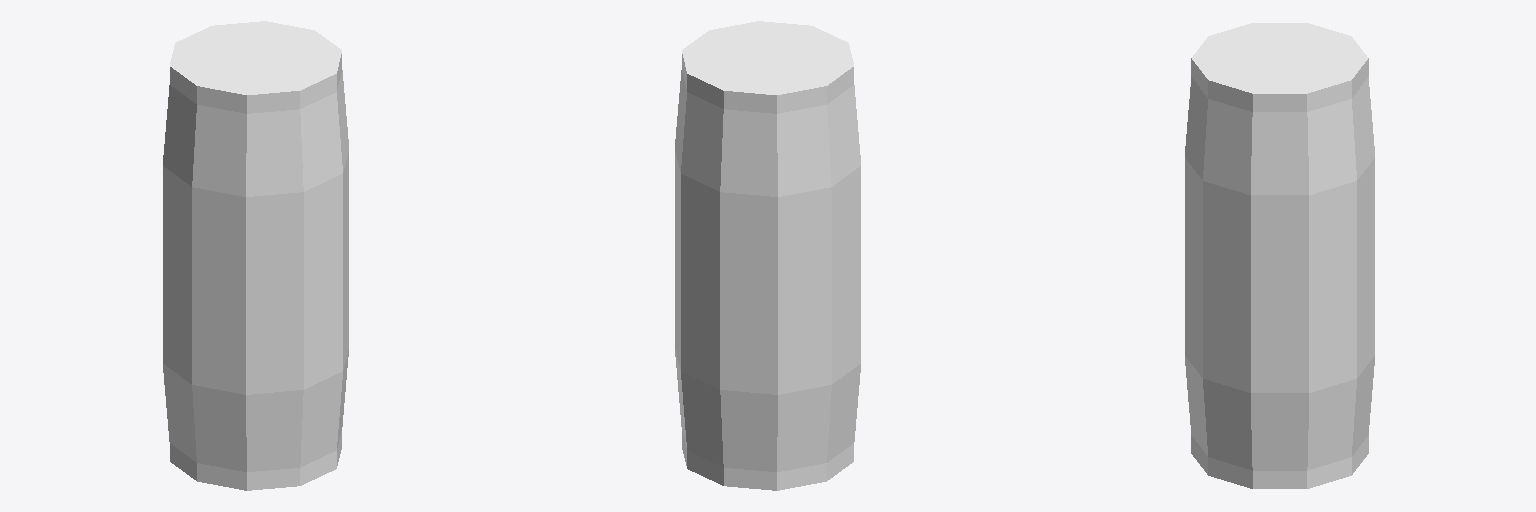
The model's file is tall_barrel_inventory.obj.
The picture shows the model from 3 angles: view 1: azimuth 30°, elevation 25°; view 2: azimuth 150°, elevation 25°; view 3: azimuth 270°, elevation 25°; orthographic projection.
Parts seen in each view (by area): view 1: upper_side, lower_side, top, bottom; view 2: upper_side, lower_side, top, bottom; view 3: upper_side, lower_side, top, bottom.
Part boxes in pixels (x1,y1,x2,y2): upper_side: (163,70,348,295); lower_side: (163,251,348,471); top: (170,21,341,113); bottom: (170,431,341,490); upper_side: (675,70,860,295); lower_side: (675,251,860,471); top: (682,21,853,113); bottom: (682,431,853,490); upper_side: (1185,77,1374,293); lower_side: (1185,257,1374,470); top: (1191,23,1368,111); bottom: (1191,435,1368,488).
Size of the model in its own units: 0.8322 by 2 by 0.875.